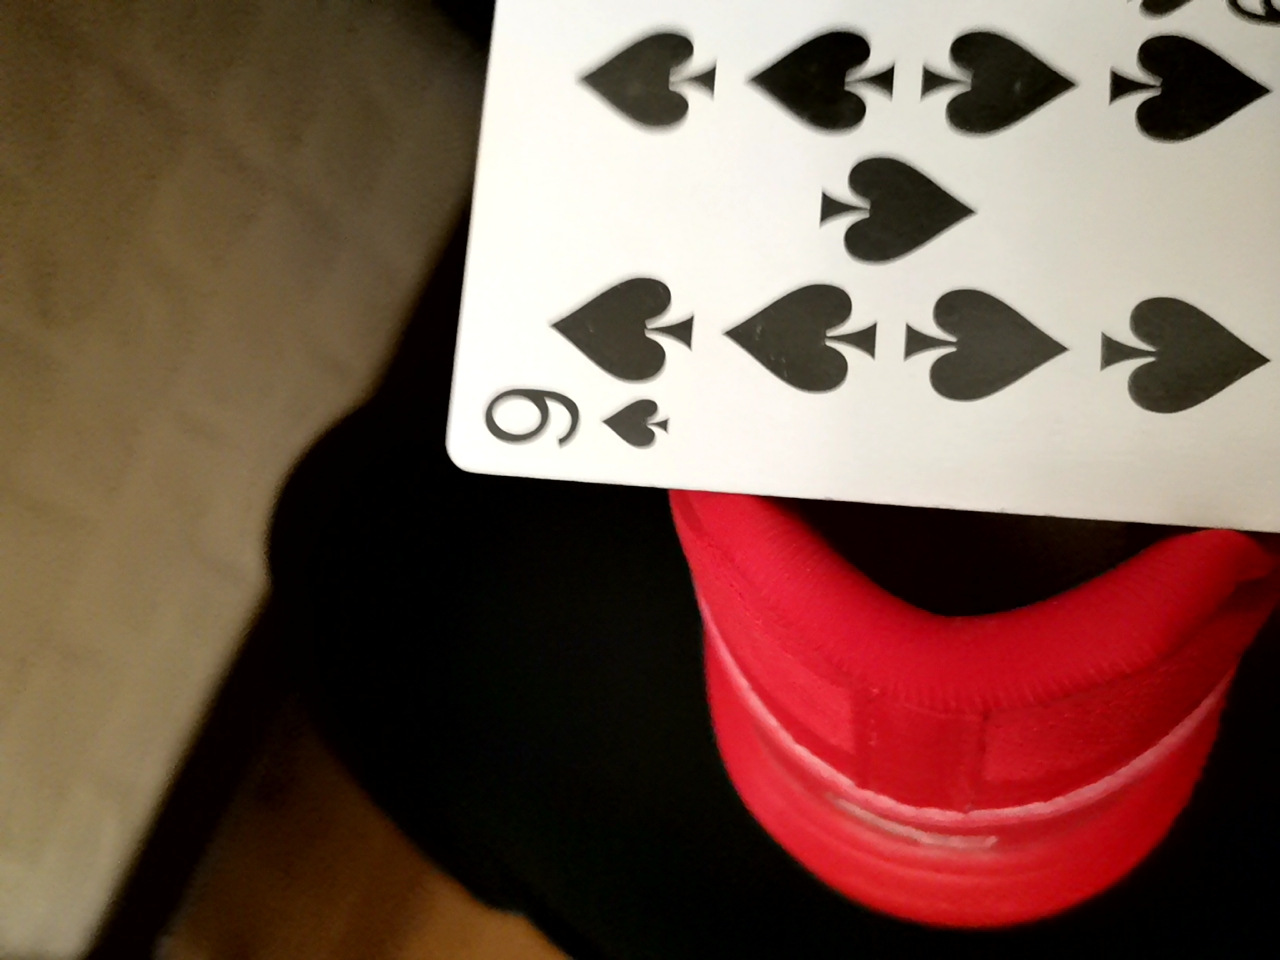ht 9: (432, 6, 1268, 533)
